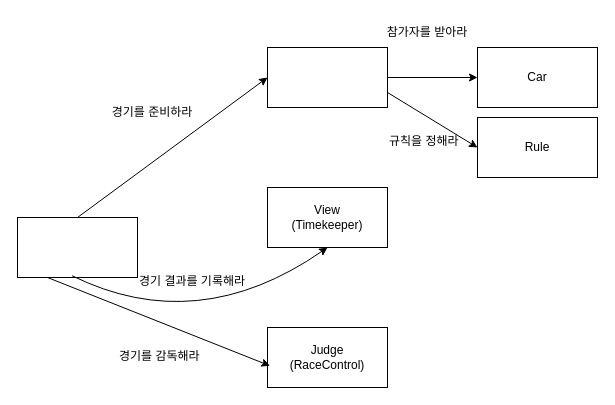
This 615x405 diagram has some shape labels left out. The centre of each missing label's shape, as x and y in pixels:
"Game" goes at (77,247).
"User (Organizer)" goes at (327,77).
